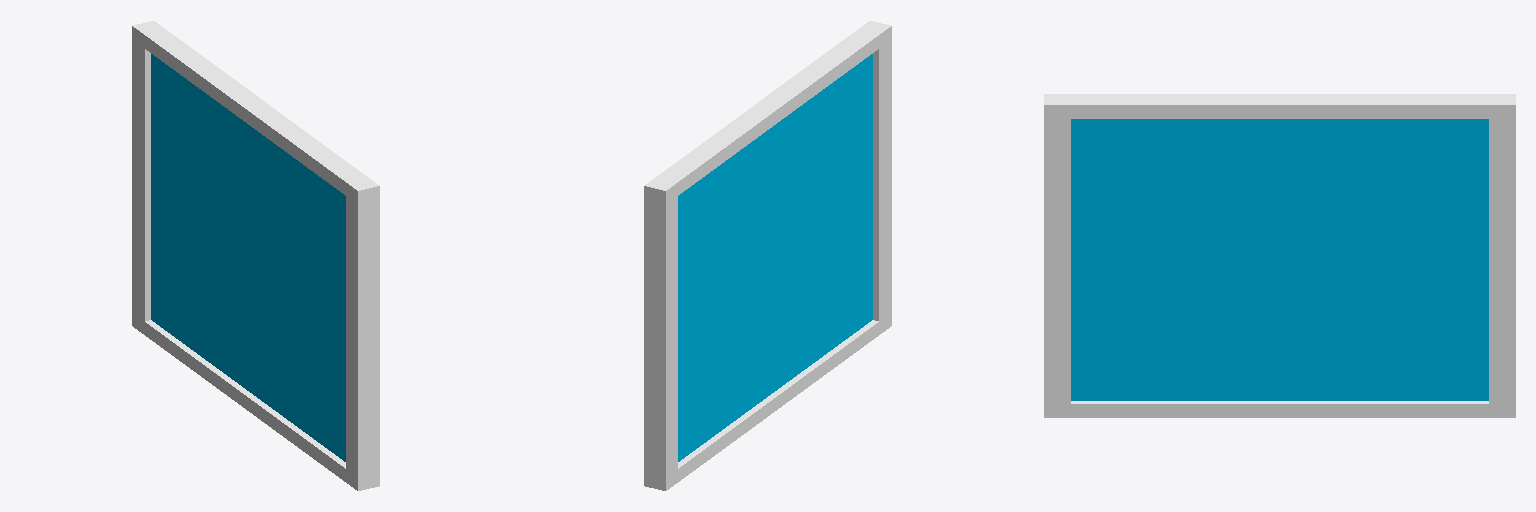
URDF robot description (window):
<?xml version="1.0" ?>
<robot name="window">
  <link name="frame_link">
    <inertial>
      <origin rpy="0 0 0" xyz="0 0 0"/>
       <mass value="0.025"/>
       <inertia ixx="1" ixy="0" ixz="0" iyy="1" iyz="0" izz="1"/>
    </inertial>
    <visual>
      <origin rpy="0 0 0" xyz="0 0 0"/>
      <geometry>
				<mesh filename="WindowFrame.obj" scale="1 1 0.6"/>
      </geometry>
       <material name="white">
        <color rgba="1 1 1 1"/>
      </material>
    </visual>
    <collision>
      <origin rpy="0 0 0" xyz="0 0 0"/>
      <geometry>
				<mesh filename="WindowFrame.obj" scale="1 1 0.6"/>
      </geometry>
    </collision>
  </link>

  <link name="window_link">
    <!-- <contact>
      <lateral_friction value="0.5"/>
    </contact> -->
    <inertial>
      <origin rpy="0 0 0" xyz="0 0 0"/>
       <mass value="0.025"/>
       <inertia ixx="1" ixy="0" ixz="0" iyy="1" iyz="0" izz="1"/>
    </inertial>
    <visual>
      <origin rpy="0 0 0" xyz="0 0 0"/>
      <geometry>
				<mesh filename="Window.obj" scale="1 1 0.6"/>
      </geometry>
      <material name="lightblue_transparent">
        <color rgba="0 0.8 1.0 0.1"/>
        <specular rgb="0 0 1"/>
      </material>
    </visual>
    <collision>
      <origin rpy="0 0 0" xyz="0 0 0"/>
      <geometry>
				<mesh filename="Window.obj" scale="1 1 0.6"/>
      </geometry>
    </collision>
  </link>

  <joint name="frame_to_window" type="fixed">
    <parent link="frame_link"/>
    <child link="window_link"/>
    <origin rpy="0 0 0" xyz="0 0 0"/>
  </joint>
</robot>

--- Facts derived from the render (not from the file) ---
Views: 3 orthographic renders of the robot side by side, from view 1: azimuth 30°, elevation 25°; view 2: azimuth 150°, elevation 25°; view 3: azimuth 270°, elevation 25°.
Robot: window — 2 links, 1 joints (1 fixed); root link frame_link; default pose: every joint at zero.
Visible links, largest first — view 1: window_link, frame_link; view 2: window_link, frame_link; view 3: window_link, frame_link.
Link boxes in pixels (x1=…): window_link: x1=151, y1=54, x2=345, y2=461; frame_link: x1=132, y1=21, x2=379, y2=490; window_link: x1=678, y1=54, x2=872, y2=461; frame_link: x1=644, y1=21, x2=891, y2=490; window_link: x1=1071, y1=119, x2=1488, y2=400; frame_link: x1=1044, y1=94, x2=1515, y2=417.
Bounding box of the posed robot: 0.05 × 0.9 × 0.66 m (x, y, z).
Meshes: 2 distinct files referenced, 2 mesh visuals loaded (2 OBJ).